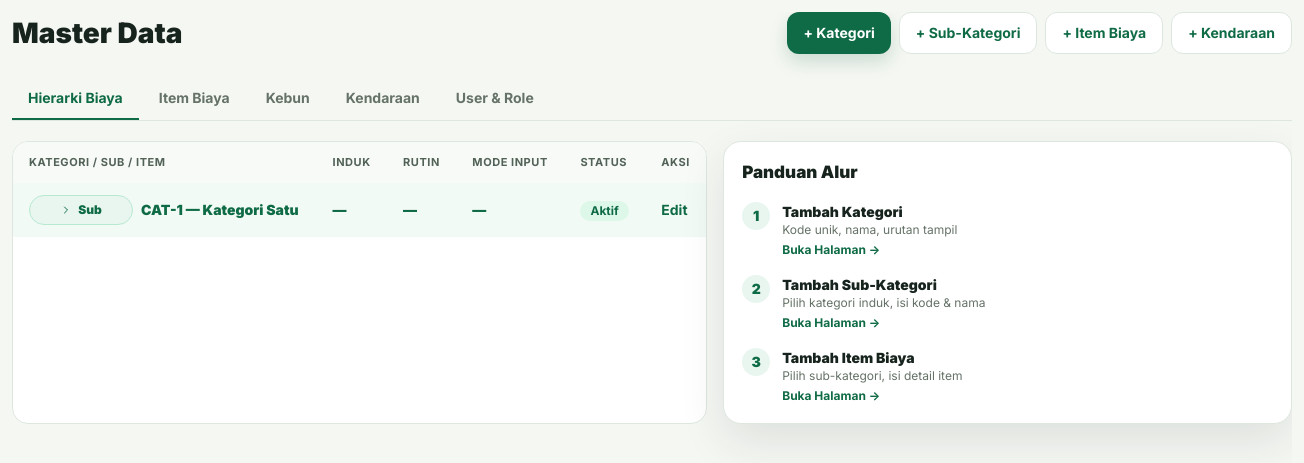
Test: ItemFormPage Payroll component options › menampilkan kolom rutin dan mode input di hierarki biaya
Expected: the column heading "Rutin" is shown, x1=387 y1=142 x2=456 y2=182
Expected: the column heading "Mode Input" is shown, x1=456 y1=142 x2=564 y2=182
Click the button "Sub" at (81, 210), box x1=29 y1=194 x2=133 y2=224
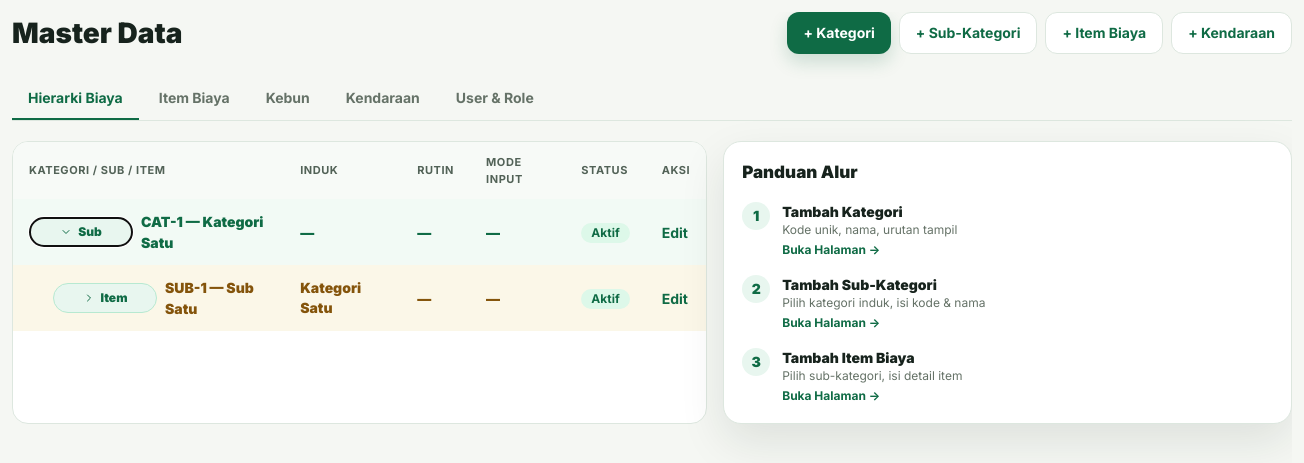
Click the button "Item" at (105, 298), box x1=53 y1=283 x2=157 y2=313
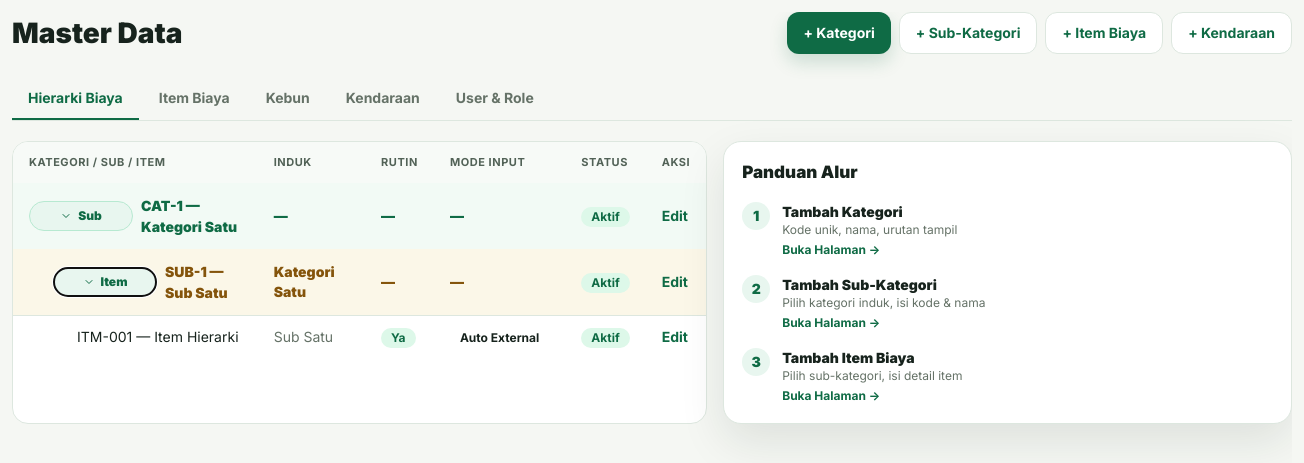
Expected: the text "Ya" is shown, x1=381 y1=328 x2=416 y2=348
Expected: the text "Auto External" is shown, x1=460 y1=330 x2=539 y2=344
